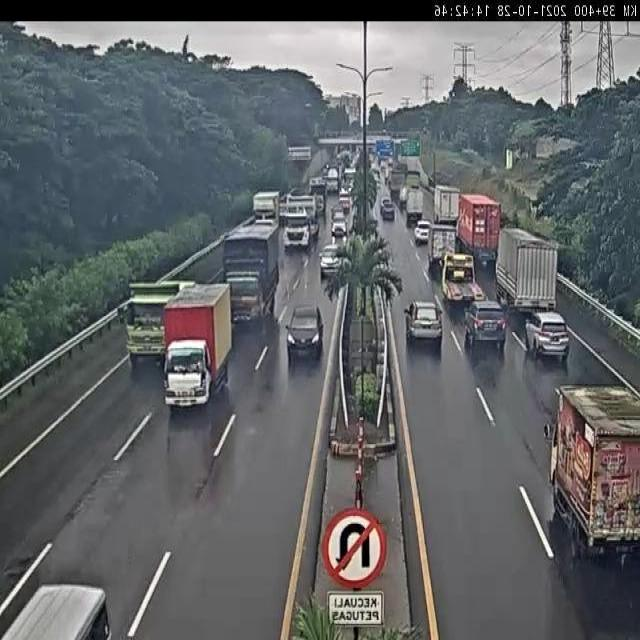Car: (284, 303, 324, 364), (526, 308, 571, 360), (464, 302, 507, 352), (405, 299, 442, 346), (319, 244, 345, 278), (414, 220, 431, 245), (332, 215, 347, 238), (380, 198, 395, 220)
Truck: (549, 380, 640, 570), (162, 284, 234, 405), (123, 278, 197, 368), (222, 222, 281, 326), (495, 228, 557, 318), (457, 192, 502, 264), (440, 251, 482, 309), (426, 224, 458, 279), (433, 184, 460, 229), (286, 193, 318, 230), (252, 190, 282, 225), (404, 188, 424, 225), (309, 176, 327, 202), (326, 168, 339, 192)
